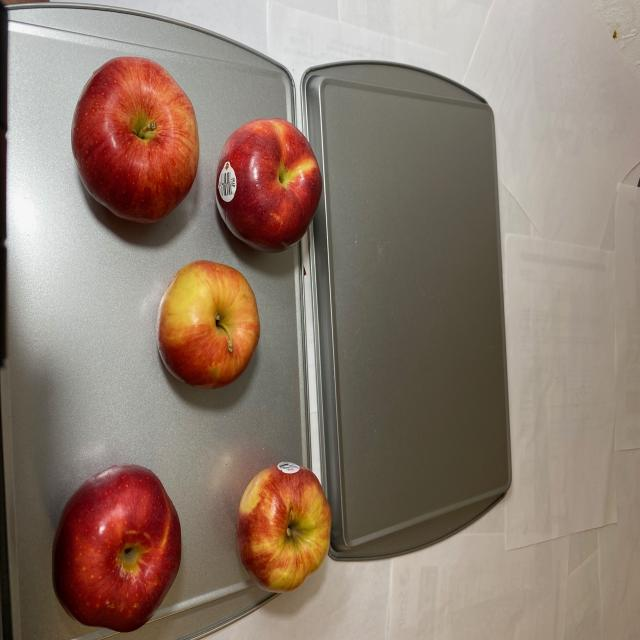Apple: (60, 57, 324, 396), (46, 460, 186, 639), (235, 453, 332, 595)
